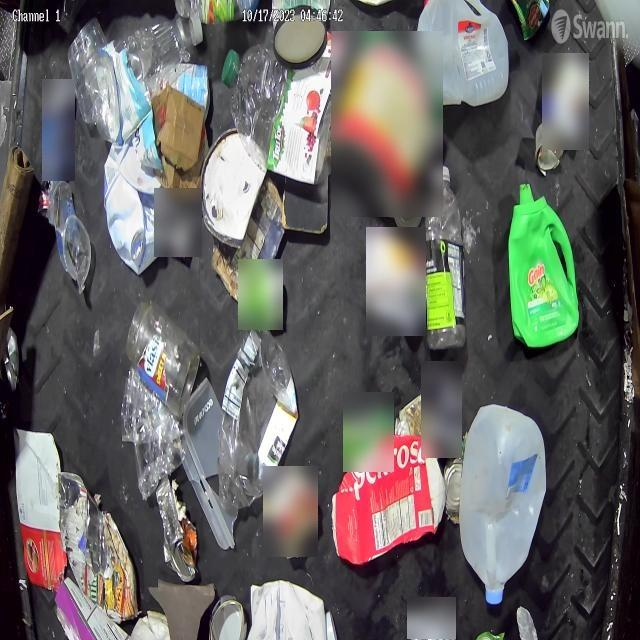milk_jug: (459, 404, 546, 604), (416, 0, 510, 110)
non_white_jug: (509, 182, 578, 348)
plastic_bottle: (220, 326, 301, 520), (86, 12, 200, 140), (421, 167, 468, 346)
